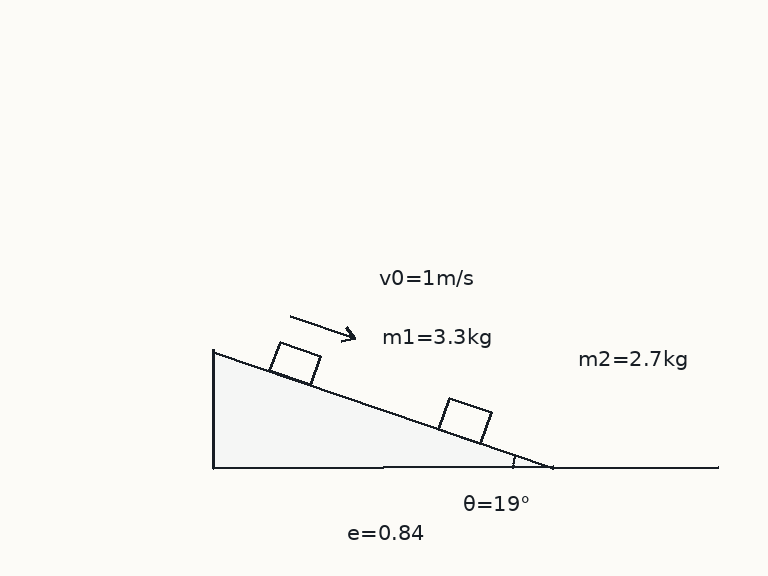block: (436, 396, 492, 445), (268, 340, 322, 386)
ramp: (211, 349, 555, 470)
